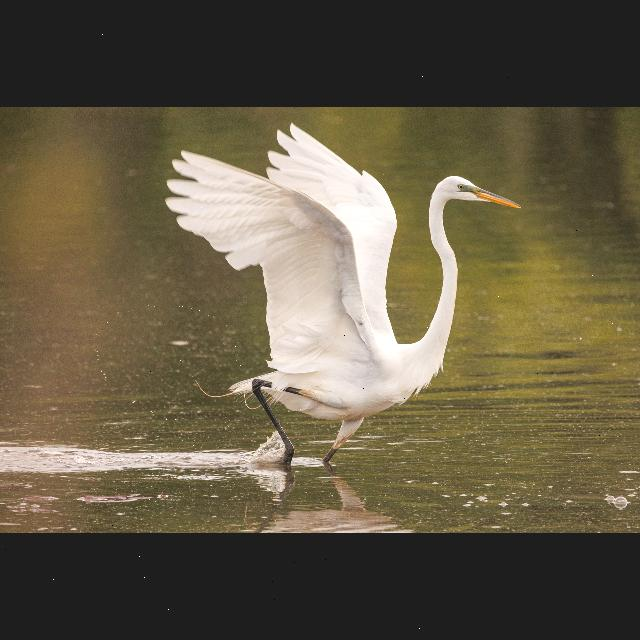egret: (161, 138, 525, 468)
